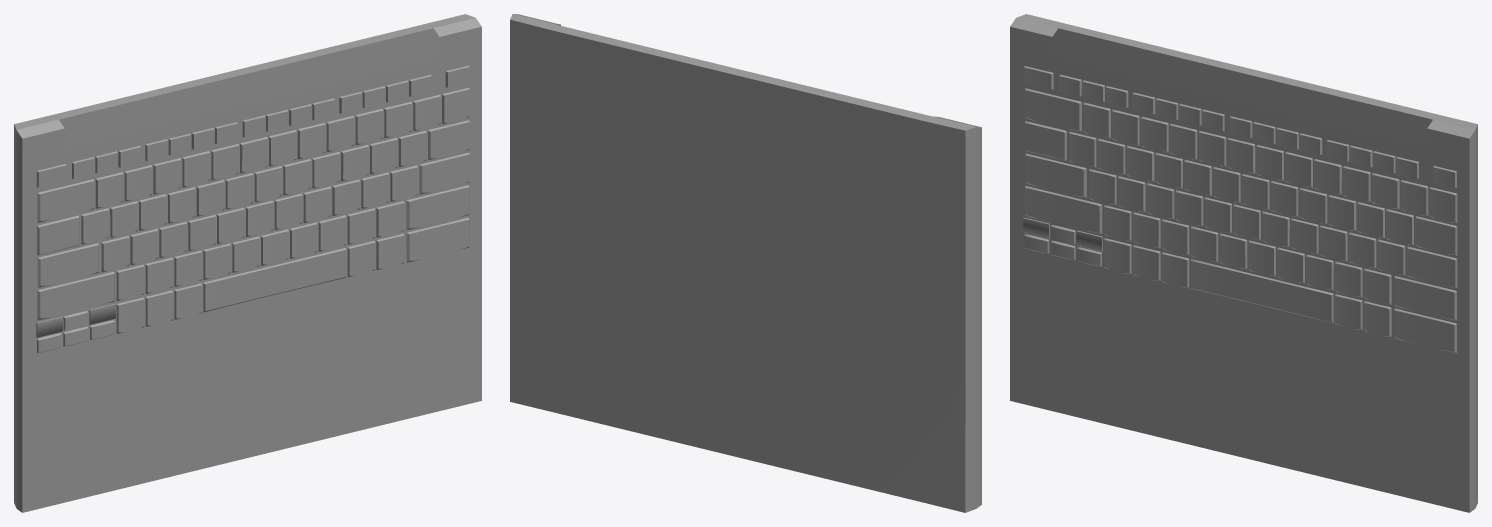
Rendered from MainMeshLaptop_2_1_GeomSubset_0.obj.
3 views of the same model, side by side, from view 1: azimuth 30°, elevation 25°; view 2: azimuth 150°, elevation 25°; view 3: azimuth 330°, elevation 25° (orthographic).
Visible parts, largest first — view 1: MainMeshLaptop_2_1_GeomSubset_0; view 2: MainMeshLaptop_2_1_GeomSubset_0; view 3: MainMeshLaptop_2_1_GeomSubset_0.
Part boxes in pixels (x1,y1,x2,y2): MainMeshLaptop_2_1_GeomSubset_0: (14,14,481,512); MainMeshLaptop_2_1_GeomSubset_0: (510,14,981,512); MainMeshLaptop_2_1_GeomSubset_0: (1010,14,1477,512).
Size of the model in its own units: 0.3486 by 0.2747 by 0.0182.
